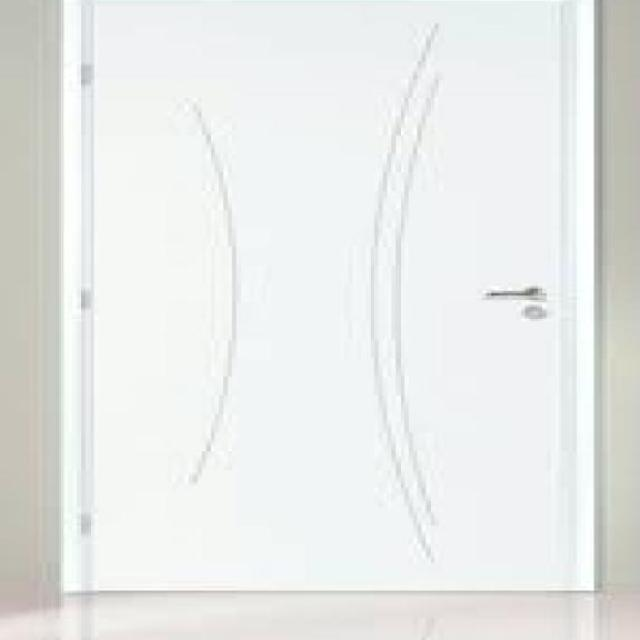door: (67, 0, 601, 594)
